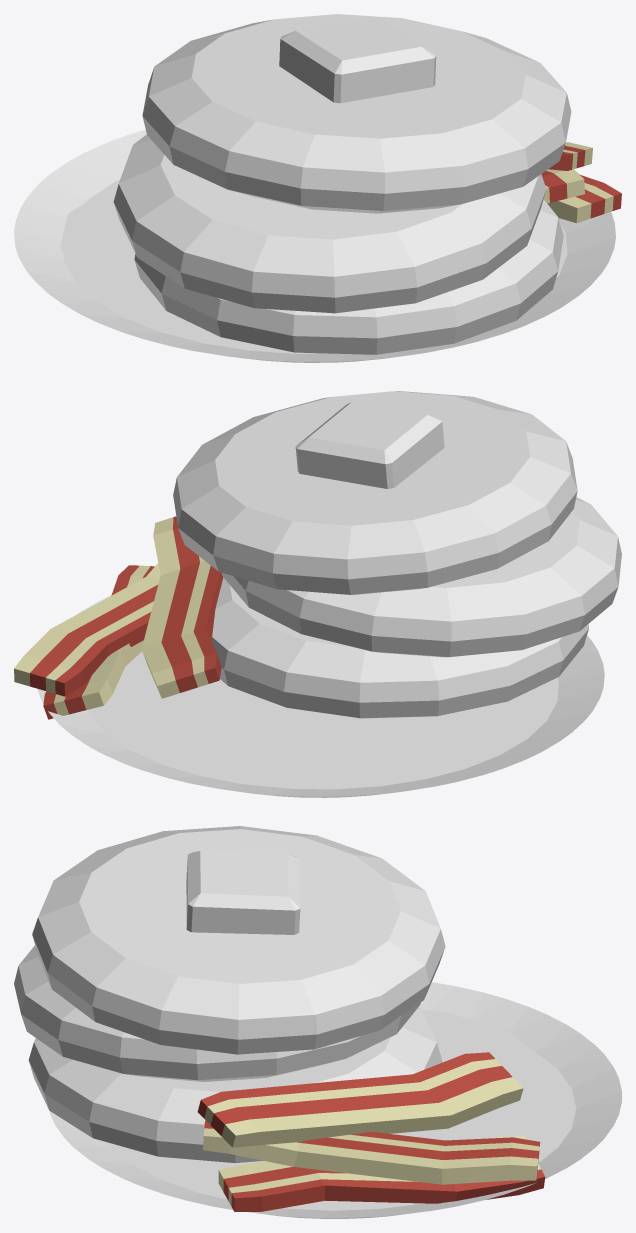
Rendered from Pancakes.fbx.
3 renders of one model, top to bottom at view 1: azimuth 30°, elevation 25°; view 2: azimuth 150°, elevation 25°; view 3: azimuth 270°, elevation 25°, orthographic. The views are drawn at different scales.
Visible parts, largest first — view 1: Top Pancake, Middle Pancake, Cylinder, Bottom Pancake, Butter - Slice.002, Plane.002, Bacon; view 2: Top Pancake, Middle Pancake, Plane.002, Bottom Pancake, Bacon, Cylinder, Butter - Slice.002; view 3: Top Pancake, Bacon, Cylinder, Bottom Pancake, Middle Pancake, Butter - Slice.002, Plane.002.
Boxes of the visible parts, bbox=[...] form: Top Pancake: bbox=[142, 14, 571, 213]; Middle Pancake: bbox=[113, 134, 546, 313]; Cylinder: bbox=[14, 129, 615, 362]; Bottom Pancake: bbox=[134, 199, 563, 354]; Butter - Slice.002: bbox=[279, 17, 436, 103]; Plane.002: bbox=[60, 182, 164, 309]; Bacon: bbox=[541, 142, 621, 223]; Top Pancake: bbox=[173, 391, 577, 594]; Middle Pancake: bbox=[221, 497, 621, 657]; Plane.002: bbox=[100, 651, 524, 782]; Bottom Pancake: bbox=[211, 577, 588, 718]; Bacon: bbox=[14, 516, 223, 719]; Cylinder: bbox=[37, 595, 604, 797]; Butter - Slice.002: bbox=[295, 402, 444, 488]; Top Pancake: bbox=[32, 826, 445, 1054]; Bacon: bbox=[197, 1052, 545, 1211]; Cylinder: bbox=[49, 982, 621, 1218]; Bottom Pancake: bbox=[28, 1007, 441, 1163]; Middle Pancake: bbox=[14, 945, 420, 1081]; Butter - Slice.002: bbox=[186, 851, 300, 934]; Plane.002: bbox=[228, 1010, 557, 1166].
Bounding box in the file's own units: 56.9 × 27.42 × 60.2.
